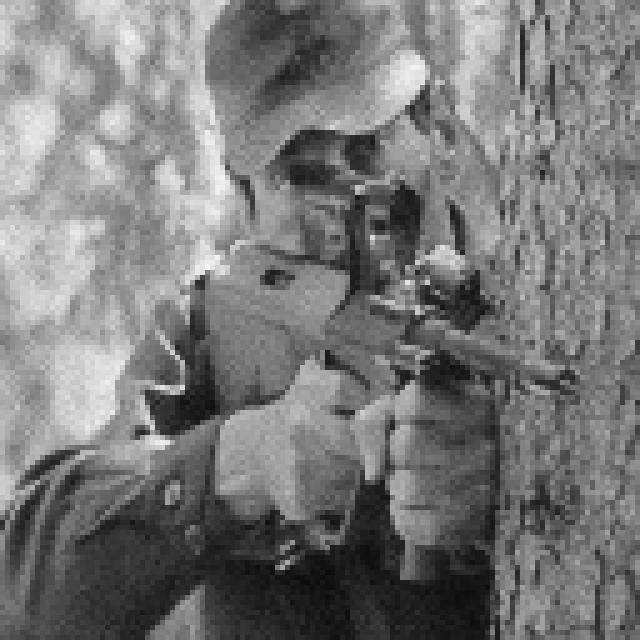Rifle: (157, 163, 596, 553)
